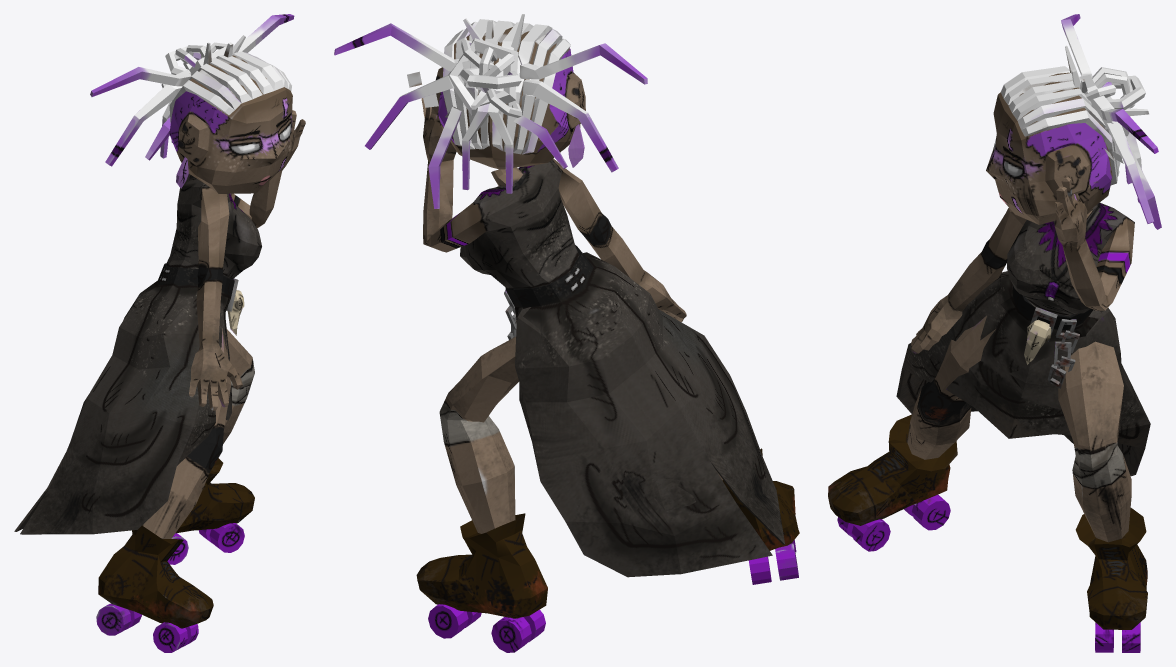
Rendered from bruja_000013.obj.
3 views of the same model, side by side, from view 1: azimuth 30°, elevation 25°; view 2: azimuth 150°, elevation 25°; view 3: azimuth 270°, elevation 25° (orthographic). The views are drawn at different scales.
Parts seen in each view (by area): view 1: Bruja_Plane.001; view 2: Bruja_Plane.001; view 3: Bruja_Plane.001.
Boxes of the visible parts, box(x1,y1,x2,y2) form: Bruja_Plane.001: box(14, 14, 305, 652); Bruja_Plane.001: box(334, 14, 799, 652); Bruja_Plane.001: box(828, 14, 1161, 652).
Size of the model in its own units: 10.15 by 15.37 by 7.94.
